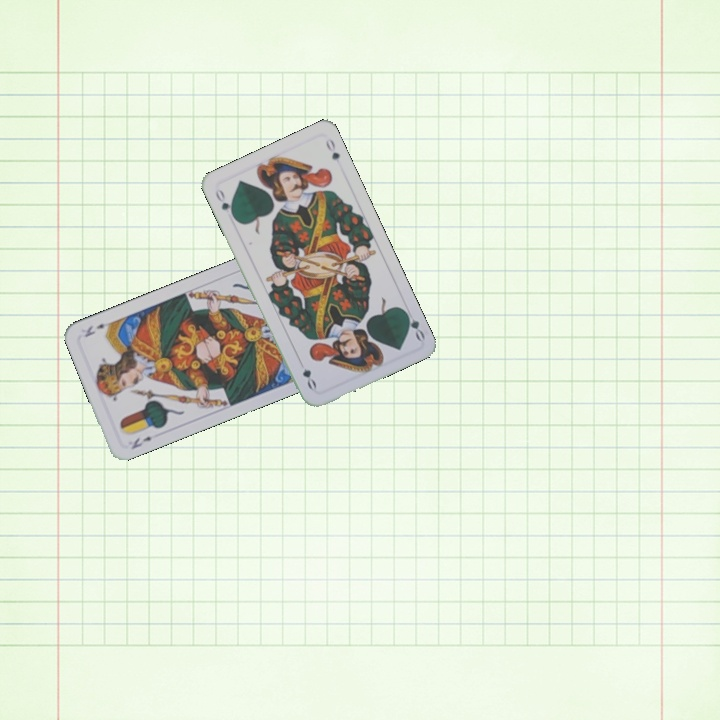EK: (127, 432, 155, 452)
GO: (400, 306, 428, 343), (211, 185, 238, 221)
